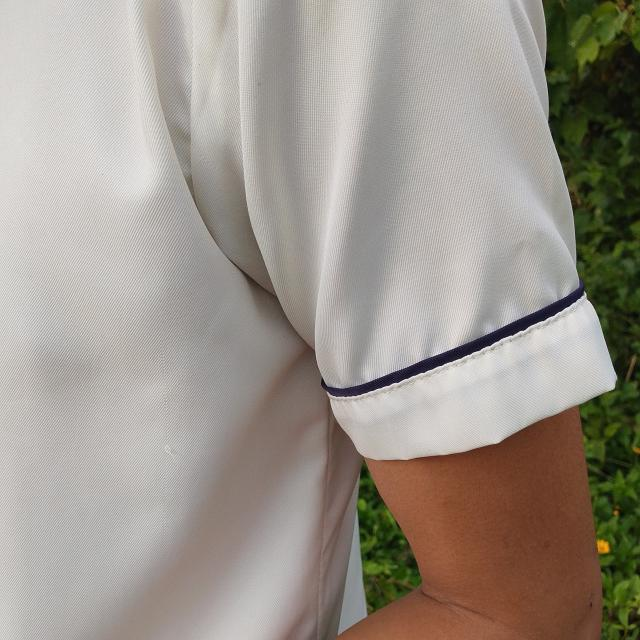education_male_uniform: (63, 0, 628, 493)
